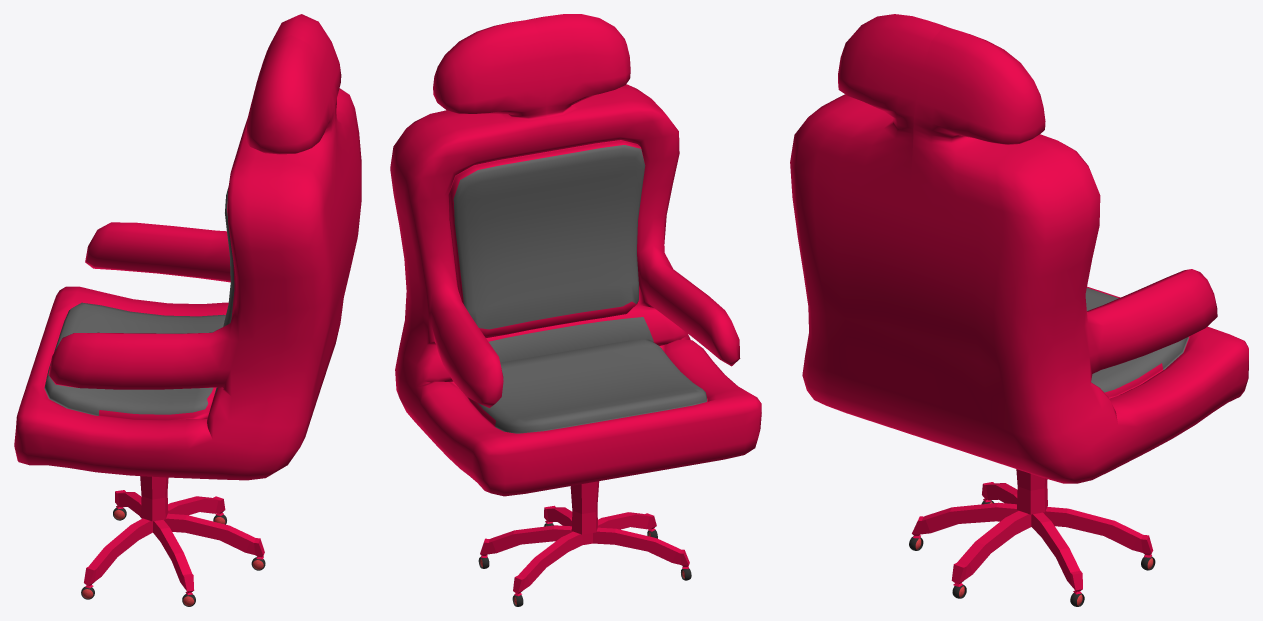
Rendered from chiar.fbx.
3 views of the same model, side by side, from view 1: azimuth 30°, elevation 25°; view 2: azimuth 150°, elevation 25°; view 3: azimuth 270°, elevation 25° (orthographic). The views are drawn at different scales.
Parts seen in each view (by area): view 1: CHAIR_Legs; view 2: CHAIR_Legs; view 3: CHAIR_Legs.
Boxes of the visible parts, x1,y1,x2,y2 form: CHAIR_Legs: [14, 14, 361, 606]; CHAIR_Legs: [390, 14, 761, 606]; CHAIR_Legs: [790, 14, 1248, 606].
Size of the model in its own units: 90.53 by 128 by 90.83.
